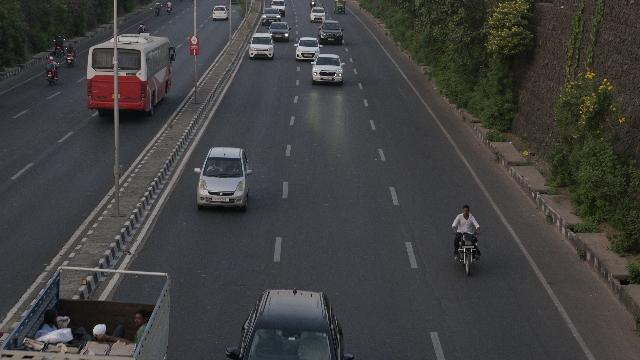Without Helmet: (462, 204, 472, 216)
